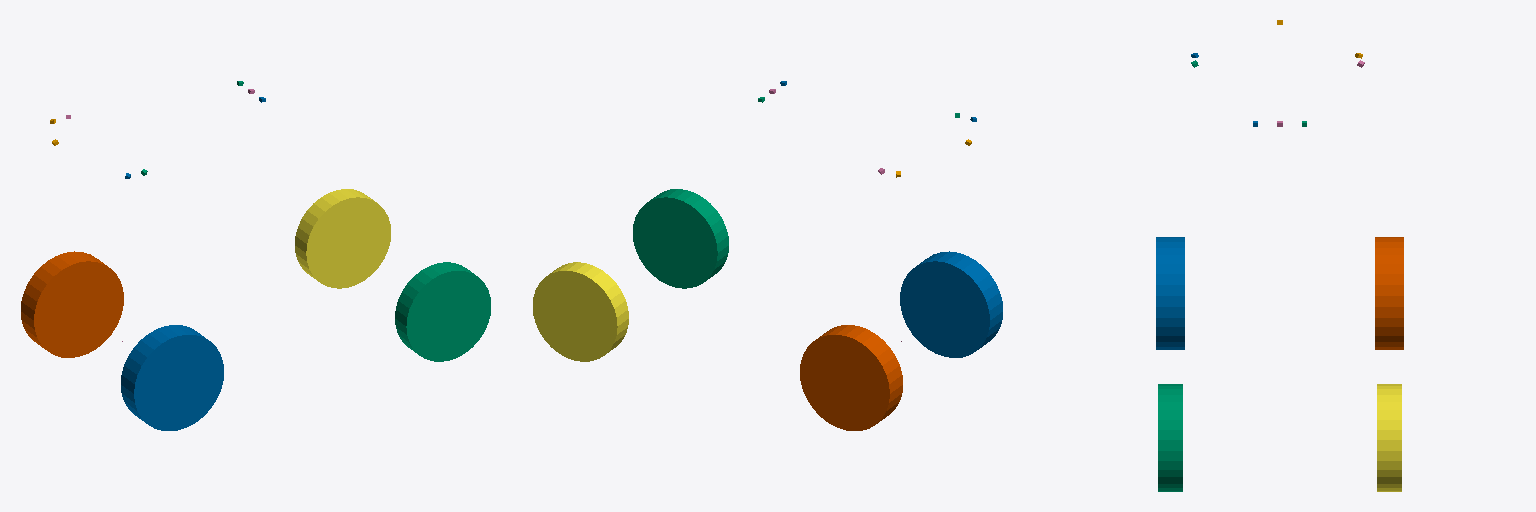
--- What the picture shows (computed from the rendered views, not written in the file) ---
The picture shows the robot from 3 angles, left to right: view 1: azimuth 30°, elevation 25°; view 2: azimuth 150°, elevation 25°; view 3: azimuth 270°, elevation 25°; orthographic projection.
Model sd_twizy with 26 links and 25 joints (2 revolute, 4 continuous, 19 fixed), rooted at base_link, posed every joint at zero.
Visible links, largest first — view 1: rear_left_wheel, rear_right_wheel, front_right_wheel, front_left_wheel; view 2: rear_right_wheel, rear_left_wheel, front_left_wheel, front_right_wheel; view 3: rear_left_wheel, rear_right_wheel, front_left_wheel, front_right_wheel.
Link boxes in pixels (box(x1,y1,x2,y2)): rear_left_wheel: box(121, 325, 223, 430); rear_right_wheel: box(21, 251, 123, 357); front_right_wheel: box(295, 189, 390, 288); front_left_wheel: box(395, 262, 490, 361); rear_right_wheel: box(800, 325, 902, 430); rear_left_wheel: box(900, 251, 1002, 357); front_left_wheel: box(633, 189, 728, 288); front_right_wheel: box(533, 262, 628, 361); rear_left_wheel: box(1156, 237, 1184, 349); rear_right_wheel: box(1375, 237, 1403, 349); front_left_wheel: box(1158, 384, 1182, 491); front_right_wheel: box(1377, 384, 1401, 491).
Size in the robot's own frame: 2.38 by 1.23 by 1.59 metres.
Geometry: only primitive shapes (box / cylinder / sphere) drawn; not drawn: 4 mesh visuals (reference in a form the renderer does not follow).

The robot description file, URDF, robot "sd_twizy":
<?xml version="1.0" ?>
<!-- =================================================================================== -->
<!-- |    This document was autogenerated by xacro from sd_twizy.urdf.xacro            | -->
<!-- |    EDITING THIS FILE BY HAND IS NOT RECOMMENDED                                 | -->
<!-- =================================================================================== -->
<!--

Copyright (c) 2020 StreetDrone Limited
Author:  Efimia Panagiotaki

All rights reserved

-->
<robot name="sd_twizy" xmlns:xacro="http://www.ros.org/wiki/xacro">
  <gazebo reference="chassis">
    <material>Gazebo/Green</material>
  </gazebo>
  <gazebo reference="front_left_wheel">
    <mu1 value="0.95"/>
    <mu2 value="0.95"/>
    <minDepth>0.005</minDepth>
    <kp>1e8</kp>
    <material>Gazebo/Black</material>
  </gazebo>
  <gazebo reference="front_right_wheel">
    <mu1 value="0.95"/>
    <mu2 value="0.95"/>
    <minDepth>0.005</minDepth>
    <kp>1e8</kp>
    <material>Gazebo/Black</material>
  </gazebo>
  <gazebo reference="rear_left_wheel">
    <mu1 value="0.95"/>
    <mu2 value="0.95"/>
    <minDepth>0.005</minDepth>
    <kp>1e8</kp>
    <material>Gazebo/Black</material>
  </gazebo>
  <gazebo reference="rear_right_wheel">
    <mu1 value="0.95"/>
    <mu2 value="0.95"/>
    <minDepth>0.005</minDepth>
    <kp>1e8</kp>
    <material>Gazebo/Black</material>
  </gazebo>
  <link name="front_left_axle">
    <inertial>
      <mass value="1"/>
      <origin xyz="0 0 0"/>
      <inertia ixx="0.004" ixy="0.0" ixz="0.0" iyy="0.004" iyz="0.0" izz="0.004"/>
    </inertial>
  </link>
  <link name="front_right_axle">
    <inertial>
      <mass value="1"/>
      <origin xyz="0 0 0"/>
      <inertia ixx="0.004" ixy="0.0" ixz="0.0" iyy="0.004" iyz="0.0" izz="0.004"/>
    </inertial>
  </link>
  <link name="front_left_wheel">
    <inertial>
      <mass value="9.14"/>
      <origin xyz="0 0 0"/>
      <inertia ixx="0.172365166667" ixy="0.0" ixz="0.0" iyy="0.172365166667" iyz="0.0" izz="0.32092825"/>
    </inertial>
    <collision name="front_left_wheel_collision">
      <geometry>
        <cylinder length="0.125" radius="0.265"/>
      </geometry>
    </collision>
    <visual>
      <geometry>
        <cylinder length="0.125" radius="0.265"/>
      </geometry>
      <material name="tire_mat"/>
    </visual>
  </link>
  <link name="front_right_wheel">
    <inertial>
      <mass value="9.14"/>
      <origin xyz="0 0 0"/>
      <inertia ixx="0.172365166667" ixy="0.0" ixz="0.0" iyy="0.172365166667" iyz="0.0" izz="0.32092825"/>
    </inertial>
    <collision name="front_right_wheel_collision">
      <geometry>
        <cylinder length="0.125" radius="0.265"/>
      </geometry>
    </collision>
    <visual>
      <geometry>
        <cylinder length="0.125" radius="0.265"/>
      </geometry>
      <material name="tire_mat"/>
    </visual>
  </link>
  <link name="rear_left_wheel">
    <inertial>
      <mass value="10.08"/>
      <origin xyz="0 0 0"/>
      <inertia ixx="0.21664272" ixy="0.0" ixz="0.0" iyy="0.21664272" iyz="0.0" izz="0.39796344"/>
    </inertial>
    <collision name="rear_left_wheel_collision">
      <geometry>
        <cylinder length="0.145" radius="0.281"/>
      </geometry>
    </collision>
    <visual>
      <geometry>
        <cylinder length="0.145" radius="0.281"/>
      </geometry>
      <material name="tire_mat"/>
    </visual>
  </link>
  <link name="rear_right_wheel">
    <inertial>
      <mass value="10.08"/>
      <origin xyz="0 0 0"/>
      <inertia ixx="0.21664272" ixy="0.0" ixz="0.0" iyy="0.21664272" iyz="0.0" izz="0.39796344"/>
    </inertial>
    <collision name="rear_right_wheel_collision">
      <geometry>
        <cylinder length="0.145" radius="0.281"/>
      </geometry>
    </collision>
    <visual>
      <geometry>
        <cylinder length="0.145" radius="0.281"/>
      </geometry>
      <material name="tire_mat"/>
    </visual>
  </link>
  <link name="base_link">
    <visual>
      <origin rpy="0 0 0" xyz="0 0 0"/>
      <geometry>
        <box size="0.001 0.001 0.001"/>
      </geometry>
    </visual>
  </link>
  <joint name="chassis_joint" type="fixed">
    <origin rpy="0 0 0" xyz="0.843 0 0"/>
    <parent link="base_link"/>
    <child link="chassis"/>
  </joint>
  <link name="chassis">
    <inertial>
      <mass value="435"/>
      <origin xyz="0 0 0"/>
      <inertia ixx="243.175" ixy="0" ixz="0" iyy="430.166" iyz="0" izz="430.166"/>
    </inertial>
    <visual>
      <origin rpy="0 0 1.57079632679" xyz="0 0 0"/>
      <geometry>
        <mesh filename="file:///[local-path]/catkin_ws/src/streetdrone_model/sd_description/meshes/SDTwizy.stl" scale="0.01 0.01 0.01"/>
      </geometry>
    </visual>
    <collision>
      <origin rpy="0 0 1.57079632679" xyz="0 0 0"/>
      <geometry>
        <mesh filename="file:///[local-path]/catkin_ws/src/streetdrone_model/sd_description/meshes/SDTwizy_collision.stl" scale="0.01 0.01 0.01"/>
      </geometry>
    </collision>
  </link>
  <joint name="rear_left_wheel_joint" type="continuous">
    <parent link="base_link"/>
    <child link="rear_left_wheel"/>
    <origin rpy="1.57079633 0 0" xyz="0 -0.54 0"/>
    <axis xyz="0 0 -1"/>
  </joint>
  <joint name="rear_right_wheel_joint" type="continuous">
    <parent link="base_link"/>
    <child link="rear_right_wheel"/>
    <origin rpy="1.57079633 0 0" xyz="0 0.54 0"/>
    <axis xyz="0 0 -1"/>
  </joint>
  <joint name="front_left_steer_joint" type="revolute">
    <parent link="base_link"/>
    <child link="front_left_axle"/>
    <origin rpy="1.57079633 0 3.14159265" xyz="1.686 -0.54 0"/>
    <axis xyz="0 1 0"/>
    <limit effort="500000" lower="-0.785398" upper="0.785398" velocity="250"/>
  </joint>
  <joint name="front_left_wheel_joint" type="continuous">
    <parent link="front_left_axle"/>
    <child link="front_left_wheel"/>
    <origin rpy="0 0 0" xyz="0 0 0"/>
    <axis xyz="0 0 -1"/>
  </joint>
  <joint name="front_right_steer_joint" type="revolute">
    <parent link="base_link"/>
    <child link="front_right_axle"/>
    <origin rpy="1.57079633 0 3.14159265" xyz="1.686 0.54 0"/>
    <axis xyz="0 1 0"/>
    <limit effort="500000" lower="-0.785398" upper="0.785398" velocity="250"/>
  </joint>
  <joint name="front_right_wheel_joint" type="continuous">
    <parent link="front_right_axle"/>
    <child link="front_right_wheel"/>
    <origin rpy="0 0 0" xyz="0 0 0"/>
    <axis xyz="0 0 -1"/>
  </joint>
  <joint name="velodyne_base_mount_joint" type="fixed">
    <origin rpy="0 -0.0261799387799 0" xyz="-0.681 0 1.445"/>
    <parent link="chassis"/>
    <child link="velodyne_base_link"/>
  </joint>
  <link name="velodyne_base_link">
    <inertial>
      <mass value="0.83"/>
      <origin xyz="0 0 0.03585"/>
      <inertia ixx="0.000908059425" ixy="0" ixz="0" iyy="0.000908059425" iyz="0" izz="0.0011049624"/>
    </inertial>
    <visual>
      <geometry>
        <mesh filename="file:///[local-path]/catkin_ws/src/streetdrone_model/sd_description/meshes/VLP16_base_1.dae"/>
      </geometry>
    </visual>
    <visual>
      <geometry>
        <mesh filename="file:///[local-path]/catkin_ws/src/streetdrone_model/sd_description/meshes/VLP16_base_2.dae"/>
      </geometry>
    </visual>
    <collision>
      <origin rpy="0 0 0" xyz="0 0 0.03585"/>
      <geometry>
        <cylinder length="0.0717" radius="0.0516"/>
      </geometry>
    </collision>
  </link>
  <joint name="velodyne_base_scan_joint" type="fixed">
    <origin rpy="0 0 0" xyz="0 0 0.0377"/>
    <parent link="velodyne_base_link"/>
    <child link="velodyne"/>
  </joint>
  <link name="velodyne">
    <inertial>
      <mass value="0.01"/>
      <origin xyz="0 0 0"/>
      <inertia ixx="1e-7" ixy="0" ixz="0" iyy="1e-7" iyz="0" izz="1e-7"/>
    </inertial>
    <visual>
      <origin xyz="0 0 -0.0377"/>
      <geometry>
        <mesh filename="file:///[local-path]/catkin_ws/src/streetdrone_model/sd_description/meshes/VLP16_scan.dae"/>
      </geometry>
    </visual>
  </link>
  <!-- Gazebo requires the velodyne_gazebo_plugins package -->
  <gazebo reference="velodyne">
    <sensor name="velodyne-VLP16" type="ray">
      <pose>0 0 0 0 0 0</pose>
      <visualize>false</visualize>
      <update_rate>10</update_rate>
      <ray>
        <scan>
          <horizontal>
            <samples>1875</samples>
            <resolution>1</resolution>
            <min_angle>-3.14159265359</min_angle>
            <max_angle>3.14159265359</max_angle>
          </horizontal>
          <vertical>
            <samples>16</samples>
            <resolution>1</resolution>
            <min_angle>-0.261799387799</min_angle>
            <max_angle> 0.261799387799</max_angle>
          </vertical>
        </scan>
        <range>
          <min>0.3</min>
          <max>131.0</max>
          <resolution>0.001</resolution>
        </range>
        <noise>
          <type>gaussian</type>
          <mean>0.0</mean>
          <stddev>0.0</stddev>
        </noise>
      </ray>
      <plugin filename="libgazebo_ros_velodyne_laser.so" name="gazebo_ros_laser_controller">
        <topicName>/points_raw</topicName>
        <frameName>velodyne</frameName>
        <min_range>0.9</min_range>
        <max_range>130.0</max_range>
        <gaussianNoise>0.008</gaussianNoise>
      </plugin>
    </sensor>
  </gazebo>
  <joint name="front_left_camera_joint" type="fixed">
    <axis xyz="0 1 0"/>
    <origin rpy="0 0.087 0" xyz="-0.04 0.12 1.3"/>
    <parent link="chassis"/>
    <child link="front_left_camera_link"/>
  </joint>
  <!-- Camera -->
  <link name="front_left_camera_link">
    <collision>
      <origin rpy="0 0 0" xyz="0 0 0"/>
      <geometry>
        <box size="0.026 0.026 0.0203"/>
      </geometry>
    </collision>
    <visual>
      <origin rpy="0 0 0" xyz="0 0 0"/>
      <geometry>
        <box size="0.026 0.026 0.0203"/>
      </geometry>
      <material name="red"/>
    </visual>
    <inertial>
      <mass value="1e-5"/>
      <origin rpy="0 0 0" xyz="0 0 0"/>
      <inertia ixx="1e-6" ixy="0" ixz="0" iyy="1e-6" iyz="0" izz="1e-6"/>
    </inertial>
  </link>
  <!-- generate an optical frame http://www.ros.org/reps/rep-0103.html#suffix-frames
         so that ros and opencv can operate on the camera frame correctly -->
  <joint name="front_left_camera_optical_joint" type="fixed">
    <!-- these values have to be these values otherwise the gazebo camera image
           won't be aligned properly with the frame it is supposedly originating from -->
    <origin rpy="-1.57079632679 0 -1.57079632679" xyz="0 0 0"/>
    <parent link="front_left_camera_link"/>
    <child link="front_left_camera_link_optical"/>
  </joint>
  <link name="front_left_camera_link_optical"/>
  <gazebo reference="front_left_camera_link">
    <mu1>0.2</mu1>
    <mu2>0.2</mu2>
    <material>Gazebo/Red</material>
    <sensor name="front_left_camera" type="camera">
      <update_rate>30.0</update_rate>
      <camera name="head">
        <horizontal_fov>2.09</horizontal_fov>
        <image>
          <width>1920</width>
          <height>1200</height>
          <format>R8G8B8</format>
        </image>
        <clip>
          <near>0.1</near>
          <far>30</far>
        </clip>
        <noise>
          <type>gaussian</type>
          <!-- Noise is sampled independently per pixel on each frame.
                 That pixel's noise value is added to each of its color
                 channels, which at that point lie in the range [0,1]. -->
          <mean>0.0</mean>
          <stddev>0.007</stddev>
        </noise>
      </camera>
      <plugin filename="libgazebo_ros_camera.so" name="front_left_camera_controller">
        <alwaysOn>true</alwaysOn>
        <updateRate>0.0</updateRate>
        <cameraName>sd_twizy/front_left_camera</cameraName>
        <imageTopicName>image_raw</imageTopicName>
        <cameraInfoTopicName>camera_info</cameraInfoTopicName>
        <frameName>front_left_camera_link_optical</frameName>
        <!-- setting hackBaseline to anything but 0.0 will cause a misalignment
               between the gazebo sensor image and the frame it is supposed to
               be attached to -->
        <hackBaseline>0.0</hackBaseline>
        <distortionK1>0.0</distortionK1>
        <distortionK2>0.0</distortionK2>
        <distortionK3>0.0</distortionK3>
        <distortionT1>0.0</distortionT1>
        <distortionT2>0.0</distortionT2>
        <CxPrime>0</CxPrime>
        <Cx>0.0</Cx>
        <Cy>0.0</Cy>
        <focalLength>0.0</focalLength>
      </plugin>
    </sensor>
  </gazebo>
  <joint name="front_right_camera_joint" type="fixed">
    <axis xyz="0 1 0"/>
    <origin rpy="0 0.087 0" xyz="-0.04 -0.12 1.3"/>
    <parent link="chassis"/>
    <child link="front_right_camera_link"/>
  </joint>
  <!-- Camera -->
  <link name="front_right_camera_link">
    <collision>
      <origin rpy="0 0 0" xyz="0 0 0"/>
      <geometry>
        <box size="0.026 0.026 0.0203"/>
      </geometry>
    </collision>
    <visual>
      <origin rpy="0 0 0" xyz="0 0 0"/>
      <geometry>
        <box size="0.026 0.026 0.0203"/>
      </geometry>
      <material name="red"/>
    </visual>
    <inertial>
      <mass value="1e-5"/>
      <origin rpy="0 0 0" xyz="0 0 0"/>
      <inertia ixx="1e-6" ixy="0" ixz="0" iyy="1e-6" iyz="0" izz="1e-6"/>
    </inertial>
  </link>
  <!-- generate an optical frame http://www.ros.org/reps/rep-0103.html#suffix-frames
         so that ros and opencv can operate on the camera frame correctly -->
  <joint name="front_right_camera_optical_joint" type="fixed">
    <!-- these values have to be these values otherwise the gazebo camera image
           won't be aligned properly with the frame it is supposedly originating from -->
    <origin rpy="-1.57079632679 0 -1.57079632679" xyz="0 0 0"/>
    <parent link="front_right_camera_link"/>
    <child link="front_right_camera_link_optical"/>
  </joint>
  <link name="front_right_camera_link_optical"/>
  <gazebo reference="front_right_camera_link">
    <mu1>0.2</mu1>
    <mu2>0.2</mu2>
    <material>Gazebo/Red</material>
    <sensor name="front_right_camera" type="camera">
      <update_rate>30.0</update_rate>
      <camera name="head">
        <horizontal_fov>2.09</horizontal_fov>
        <image>
          <width>1920</width>
          <height>1200</height>
          <format>R8G8B8</format>
        </image>
        <clip>
          <near>0.1</near>
          <far>30</far>
        </clip>
        <noise>
          <type>gaussian</type>
          <!-- Noise is sampled independently per pixel on each frame.
                 That pixel's noise value is added to each of its color
                 channels, which at that point lie in the range [0,1]. -->
          <mean>0.0</mean>
          <stddev>0.007</stddev>
        </noise>
      </camera>
      <plugin filename="libgazebo_ros_camera.so" name="front_right_camera_controller">
        <alwaysOn>true</alwaysOn>
        <updateRate>0.0</updateRate>
        <cameraName>sd_twizy/front_right_camera</cameraName>
        <imageTopicName>image_raw</imageTopicName>
        <cameraInfoTopicName>camera_info</cameraInfoTopicName>
        <frameName>front_right_camera_link_optical</frameName>
        <!-- setting hackBaseline to anything but 0.0 will cause a misalignment
               between the gazebo sensor image and the frame it is supposed to
               be attached to -->
        <hackBaseline>0.0</hackBaseline>
        <distortionK1>0.0</distortionK1>
        <distortionK2>0.0</distortionK2>
        <distortionK3>0.0</distortionK3>
        <distortionT1>0.0</distortionT1>
        <distortionT2>0.0</distortionT2>
        <CxPrime>0</CxPrime>
        <Cx>0.0</Cx>
        <Cy>0.0</Cy>
        <focalLength>0.0</focalLength>
      </plugin>
    </sensor>
  </gazebo>
  <joint name="front_center_camera_joint" type="fixed">
    <axis xyz="0 1 0"/>
    <origin rpy="0 0.087 0" xyz="-0.04 0 1.3"/>
    <parent link="chassis"/>
    <child link="front_center_camera_link"/>
  </joint>
  <!-- Camera -->
  <link name="front_center_camera_link">
    <collision>
      <origin rpy="0 0 0" xyz="0 0 0"/>
      <geometry>
        <box size="0.026 0.026 0.0203"/>
      </geometry>
    </collision>
    <visual>
      <origin rpy="0 0 0" xyz="0 0 0"/>
      <geometry>
        <box size="0.026 0.026 0.0203"/>
      </geometry>
      <material name="red"/>
    </visual>
    <inertial>
      <mass value="1e-5"/>
      <origin rpy="0 0 0" xyz="0 0 0"/>
      <inertia ixx="1e-6" ixy="0" ixz="0" iyy="1e-6" iyz="0" izz="1e-6"/>
    </inertial>
  </link>
  <!-- generate an optical frame http://www.ros.org/reps/rep-0103.html#suffix-frames
         so that ros and opencv can operate on the camera frame correctly -->
  <joint name="front_center_camera_optical_joint" type="fixed">
    <!-- these values have to be these values otherwise the gazebo camera image
           won't be aligned properly with the frame it is supposedly originating from -->
    <origin rpy="-1.57079632679 0 -1.57079632679" xyz="0 0 0"/>
    <parent link="front_center_camera_link"/>
    <child link="front_center_camera_link_optical"/>
  </joint>
  <link name="front_center_camera_link_optical"/>
  <gazebo reference="front_center_camera_link">
    <mu1>0.2</mu1>
    <mu2>0.2</mu2>
    <material>Gazebo/Red</material>
    <sensor name="front_center_camera" type="camera">
      <update_rate>30.0</update_rate>
      <camera name="head">
        <horizontal_fov>2.09</horizontal_fov>
        <image>
          <width>1920</width>
          <height>1200</height>
          <format>R8G8B8</format>
        </image>
        <clip>
          <near>0.1</near>
          <far>30</far>
        </clip>
        <noise>
          <type>gaussian</type>
          <!-- Noise is sampled independently per pixel on each frame.
                 That pixel's noise value is added to each of its color
                 channels, which at that point lie in the range [0,1]. -->
          <mean>0.0</mean>
          <stddev>0.007</stddev>
        </noise>
      </camera>
      <plugin filename="libgazebo_ros_camera.so" name="front_center_camera_controller">
        <alwaysOn>true</alwaysOn>
        <updateRate>0.0</updateRate>
        <cameraName>sd_twizy/front_center_camera</cameraName>
        <imageTopicName>image_raw</imageTopicName>
        <cameraInfoTopicName>camera_info</cameraInfoTopicName>
        <frameName>front_center_camera_link_optical</frameName>
        <!-- setting hackBaseline to anything but 0.0 will cause a misalignment
               between the gazebo sensor image and the frame it is supposed to
               be attached to -->
        <hackBaseline>0.0</hackBaseline>
        <distortionK1>0.0</distortionK1>
        <distortionK2>0.0</distortionK2>
        <distortionK3>0.0</distortionK3>
        <distortionT1>0.0</distortionT1>
        <distortionT2>0.0</distortionT2>
        <CxPrime>0</CxPrime>
        <Cx>0.0</Cx>
        <Cy>0.0</Cy>
        <focalLength>0.0</focalLength>
      </plugin>
    </sensor>
  </gazebo>
  <joint name="rear_center_camera_joint" type="fixed">
    <axis xyz="0 1 0"/>
    <origin rpy="0 0.2618 3.14" xyz="-1.26 0 1.28"/>
    <parent link="chassis"/>
    <child link="rear_center_camera_link"/>
  </joint>
  <!-- Camera -->
  <link name="rear_center_camera_link">
    <collision>
      <origin rpy="0 0 0" xyz="0 0 0"/>
      <geometry>
        <box size="0.026 0.026 0.0203"/>
      </geometry>
    </collision>
    <visual>
      <origin rpy="0 0 0" xyz="0 0 0"/>
      <geometry>
        <box size="0.026 0.026 0.0203"/>
      </geometry>
      <material name="red"/>
    </visual>
    <inertial>
      <mass value="1e-5"/>
      <origin rpy="0 0 0" xyz="0 0 0"/>
      <inertia ixx="1e-6" ixy="0" ixz="0" iyy="1e-6" iyz="0" izz="1e-6"/>
    </inertial>
  </link>
  <!-- generate an optical frame http://www.ros.org/reps/rep-0103.html#suffix-frames
         so that ros and opencv can operate on the camera frame correctly -->
  <joint name="rear_center_camera_optical_joint" type="fixed">
    <!-- these values have to be these values otherwise the gazebo camera image
           won't be aligned properly with the frame it is supposedly originating from -->
    <origin rpy="-1.57079632679 0 -1.57079632679" xyz="0 0 0"/>
    <parent link="rear_center_camera_link"/>
    <child link="rear_center_camera_link_optical"/>
  </joint>
  <link name="rear_center_camera_link_optical"/>
  <gazebo reference="rear_center_camera_link">
    <mu1>0.2</mu1>
    <mu2>0.2</mu2>
    <material>Gazebo/Red</material>
    <sensor name="rear_center_camera" type="camera">
      <update_rate>30.0</update_rate>
      <camera name="head">
        <horizontal_fov>2.09</horizontal_fov>
        <image>
          <width>1920</width>
          <height>1200</height>
          <format>R8G8B8</format>
        </image>
        <clip>
          <near>0.1</near>
          <far>30</far>
        </clip>
        <noise>
          <type>gaussian</type>
          <!-- Noise is sampled independently per pixel on each frame.
                 That pixel's noise value is added to each of its color
                 channels, which at that point lie in the range [0,1]. -->
          <mean>0.0</mean>
          <stddev>0.007</stddev>
        </noise>
      </camera>
      <plugin filename="libgazebo_ros_camera.so" name="rear_center_camera_controller">
        <alwaysOn>true</alwaysOn>
        <updateRate>0.0</updateRate>
        <cameraName>sd_twizy/rear_center_camera</cameraName>
        <imageTopicName>image_raw</imageTopicName>
        <cameraInfoTopicName>camera_info</cameraInfoTopicName>
        <frameName>rear_center_camera_link_optical</frameName>
        <!-- setting hackBaseline to anything but 0.0 will cause a misalignment
               between the gazebo sensor image and the frame it is supposed to
               be attached to -->
        <hackBaseline>0.0</hackBaseline>
        <distortionK1>0.0</distortionK1>
        <distortionK2>0.0</distortionK2>
        <distortionK3>0.0</distortionK3>
        <distortionT1>0.0</distortionT1>
        <distortionT2>0.0</distortionT2>
        <CxPrime>0</CxPrime>
        <Cx>0.0</Cx>
        <Cy>0.0</Cy>
        <focalLength>0.0</focalLength>
      </plugin>
    </sensor>
  </gazebo>
  <joint name="right_forward_camera_joint" type="fixed">
    <axis xyz="0 1 0"/>
    <origin rpy="0 0.244 -1.12" xyz="-0.95 -0.42 1.2"/>
    <parent link="chassis"/>
    <child link="right_forward_camera_link"/>
  </joint>
  <!-- Camera -->
  <link name="right_forward_camera_link">
    <collision>
      <origin rpy="0 0 0" xyz="0 0 0"/>
      <geometry>
        <box size="0.026 0.026 0.0203"/>
      </geometry>
    </collision>
    <visual>
      <origin rpy="0 0 0" xyz="0 0 0"/>
      <geometry>
        <box size="0.026 0.026 0.0203"/>
      </geometry>
      <material name="red"/>
    </visual>
    <inertial>
      <mass value="1e-5"/>
      <origin rpy="0 0 0" xyz="0 0 0"/>
      <inertia ixx="1e-6" ixy="0" ixz="0" iyy="1e-6" iyz="0" izz="1e-6"/>
    </inertial>
  </link>
  <!-- generate an optical frame http://www.ros.org/reps/rep-0103.html#suffix-frames
         so that ros and opencv can operate on the camera frame correctly -->
  <joint name="right_forward_camera_optical_joint" type="fixed">
    <!-- these values have to be these values otherwise the gazebo camera image
           won't be aligned properly with the frame it is supposedly originating from -->
    <origin rpy="-1.57079632679 0 -1.57079632679" xyz="0 0 0"/>
    <parent link="right_forward_camera_link"/>
    <child link="right_forward_camera_link_optical"/>
  </joint>
  <link name="right_forward_camera_link_optical"/>
  <gazebo reference="right_forward_camera_link">
    <mu1>0.2</mu1>
    <mu2>0.2</mu2>
    <material>Gazebo/Red</material>
    <sensor name="right_forward_camera" type="camera">
      <update_rate>30.0</update_rate>
      <camera name="head">
        <horizontal_fov>2.09</horizontal_fov>
        <image>
          <width>1920</width>
          <height>1200</height>
          <format>R8G8B8</format>
        </image>
        <clip>
          <near>0.1</near>
          <far>30</far>
        </clip>
        <noise>
          <type>gaussian</type>
          <!-- Noise is sampled independently per pixel on each frame.
                 That pixel's noise value is added to each of its color
                 channels, which at that point lie in the range [0,1]. -->
          <mean>0.0</mean>
          <stddev>0.007</stddev>
        </noise>
      </camera>
      <plugin filename="libgazebo_ros_camera.so" name="right_forward_camera_controller">
        <alwaysOn>true</alwaysOn>
        <updateRate>0.0</updateRate>
        <cameraName>sd_twizy/right_forward_camera</cameraName>
        <imageTopicName>image_raw</imageTopicName>
        <cameraInfoTopicName>camera_info</cameraInfoTopicName>
        <frameName>right_forward_camera_link_optical</frameName>
        <!-- setting hackBaseline to anything but 0.0 will cause a misalignment
               between the gazebo sensor image and the frame it is supposed to
               be attached to -->
        <hackBaseline>0.0</hackBaseline>
        <distortionK1>0.0</distortionK1>
        <distortionK2>0.0</distortionK2>
        <distortionK3>0.0</distortionK3>
        <distortionT1>0.0</distortionT1>
        <distortionT2>0.0</distortionT2>
        <CxPrime>0</CxPrime>
        <Cx>0.0</Cx>
        <Cy>0.0</Cy>
        <focalLength>0.0</focalLength>
      </plugin>
    </sensor>
  </gazebo>
  <joint name="right_rearward_camera_joint" type="fixed">
    <axis xyz="0 1 0"/>
    <origin rpy="0 0.244 -2.18" xyz="-1.05 -0.42 1.2"/>
    <parent link="chassis"/>
    <child link="right_rearward_camera_link"/>
  </joint>
  <!-- Camera -->
  <link name="right_rearward_camera_link">
    <collision>
      <origin rpy="0 0 0" xyz="0 0 0"/>
      <geometry>
        <box size="0.026 0.026 0.0203"/>
      </geometry>
    </collision>
    <visual>
      <origin rpy="0 0 0" xyz="0 0 0"/>
      <geometry>
        <box size="0.026 0.026 0.0203"/>
      </geometry>
      <material name="red"/>
    </visual>
    <inertial>
      <mass value="1e-5"/>
      <origin rpy="0 0 0" xyz="0 0 0"/>
      <inertia ixx="1e-6" ixy="0" ixz="0" iyy="1e-6" iyz="0" izz="1e-6"/>
    </inertial>
  </link>
  <!-- generate an optical frame http://www.ros.org/reps/rep-0103.html#suffix-frames
         so that ros and opencv can operate on the camera frame correctly -->
  <joint name="right_rearward_camera_optical_joint" type="fixed">
    <!-- these values have to be these values otherwise the gazebo camera image
           won't be aligned properly with the frame it is supposedly originating from -->
    <origin rpy="-1.57079632679 0 -1.57079632679" xyz="0 0 0"/>
    <parent link="right_rearward_camera_link"/>
    <child link="right_rearward_camera_link_optical"/>
  </joint>
  <link name="right_rearward_camera_link_optical"/>
  <gazebo reference="right_rearward_camera_link">
    <mu1>0.2</mu1>
    <mu2>0.2</mu2>
    <material>Gazebo/Red</material>
    <sensor name="right_rearward_camera" type="camera">
      <update_rate>30.0</update_rate>
      <camera name="head">
        <horizontal_fov>2.09</horizontal_fov>
        <image>
          <width>1920</width>
          <height>1200</height>
          <format>R8G8B8</format>
        </image>
        <clip>
          <near>0.1</near>
          <far>30</far>
        </clip>
        <noise>
          <type>gaussian</type>
          <!-- Noise is sampled independently per pixel on each frame.
                 That pixel's noise value is added to each of its color
                 channels, which at that point lie in the range [0,1]. -->
          <mean>0.0</mean>
          <stddev>0.007</stddev>
        </noise>
      </camera>
      <plugin filename="libgazebo_ros_camera.so" name="right_rearward_camera_controller">
        <alwaysOn>true</alwaysOn>
        <updateRate>0.0</updateRate>
        <cameraName>sd_twizy/right_rearward_camera</cameraName>
        <imageTopicName>image_raw</imageTopicName>
        <cameraInfoTopicName>camera_info</cameraInfoTopicName>
        <frameName>right_rearward_camera_link_optical</frameName>
        <!-- setting hackBaseline to anything but 0.0 will cause a misalignment
               between the gazebo sensor image and the frame it is supposed to
               be attached to -->
        <hackBaseline>0.0</hackBaseline>
        <distortionK1>0.0</distortionK1>
        <distortionK2>0.0</distortionK2>
        <distortionK3>0.0</distortionK3>
        <distortionT1>0.0</distortionT1>
        <distortionT2>0.0</distortionT2>
        <CxPrime>0</CxPrime>
        <Cx>0.0</Cx>
        <Cy>0.0</Cy>
        <focalLength>0.0</focalLength>
      </plugin>
    </sensor>
  </gazebo>
  <joint name="left_forward_camera_joint" type="fixed">
    <axis xyz="0 1 0"/>
    <origin rpy="0 0.2967 1.12" xyz="-0.95 0.4 1.2"/>
    <parent link="chassis"/>
    <child link="left_forward_camera_link"/>
  </joint>
  <!-- Camera -->
  <link name="left_forward_camera_link">
    <collision>
      <origin rpy="0 0 0" xyz="0 0 0"/>
      <geometry>
        <box size="0.026 0.026 0.0203"/>
      </geometry>
    </collision>
    <visual>
      <origin rpy="0 0 0" xyz="0 0 0"/>
      <geometry>
        <box size="0.026 0.026 0.0203"/>
      </geometry>
      <material name="red"/>
    </visual>
    <inertial>
      <mass value="1e-5"/>
      <origin rpy="0 0 0" xyz="0 0 0"/>
      <inertia ixx="1e-6" ixy="0" ixz="0" iyy="1e-6" iyz="0" izz="1e-6"/>
    </inertial>
  </link>
  <!-- generate an optical frame http://www.ros.org/reps/rep-0103.html#suffix-frames
         so that ros and opencv can operate on the camera frame correctly -->
  <joint name="left_forward_camera_optical_joint" type="fixed">
    <!-- these values have to be these values otherwise the gazebo camera image
           won't be aligned properly with the frame it is supposedly originating from -->
    <origin rpy="-1.57079632679 0 -1.57079632679" xyz="0 0 0"/>
    <parent link="left_forward_camera_link"/>
    <child link="left_forward_camera_link_optical"/>
  </joint>
  <link name="left_forward_camera_link_optical"/>
  <gazebo reference="left_forward_camera_link">
    <mu1>0.2</mu1>
    <mu2>0.2</mu2>
    <material>Gazebo/Red</material>
    <sensor name="left_forward_camera" type="camera">
      <update_rate>30.0</update_rate>
      <camera name="head">
        <horizontal_fov>2.09</horizontal_fov>
        <image>
          <width>1920</width>
          <height>1200</height>
          <format>R8G8B8</format>
        </image>
        <clip>
          <near>0.1</near>
          <far>30</far>
        </clip>
        <noise>
          <type>gaussian</type>
          <!-- Noise is sampled independently per pixel on each frame.
                 That pixel's noise value is added to each of its color
                 channels, which at that point lie in the range [0,1]. -->
          <mean>0.0</mean>
          <stddev>0.007</stddev>
        </noise>
      </camera>
      <plugin filename="libgazebo_ros_camera.so" name="left_forward_camera_controller">
        <alwaysOn>true</alwaysOn>
        <updateRate>0.0</updateRate>
        <cameraName>sd_twizy/left_forward_camera</cameraName>
        <imageTopicName>image_raw</imageTopicName>
        <cameraInfoTopicName>camera_info</cameraInfoTopicName>
        <frameName>left_forward_camera_link_optical</frameName>
        <!-- setting hackBaseline to anything but 0.0 will cause a misalignment
               between the gazebo sensor image and the frame it is supposed to
               be attached to -->
        <hackBaseline>0.0</hackBaseline>
        <distortionK1>0.0</distortionK1>
        <distortionK2>0.0</distortionK2>
        <distortionK3>0.0</distortionK3>
        <distortionT1>0.0</distortionT1>
        <distortionT2>0.0</distortionT2>
        <CxPrime>0</CxPrime>
        <Cx>0.0</Cx>
        <Cy>0.0</Cy>
        <focalLength>0.0</focalLength>
      </plugin>
    </sensor>
  </gazebo>
  <joint name="left_rearward_camera_joint" type="fixed">
    <axis xyz="0 1 0"/>
    <origin rpy="0 0.2967 2.18" xyz="-1.05 0.39 1.2"/>
    <parent link="chassis"/>
    <child link="left_rearward_camera_link"/>
  </joint>
  <!-- Camera -->
  <link name="left_rearward_camera_link">
    <collision>
      <origin rpy="0 0 0" xyz="0 0 0"/>
      <geometry>
        <box size="0.026 0.026 0.0203"/>
      </geometry>
    </collision>
    <visual>
      <origin rpy="0 0 0" xyz="0 0 0"/>
      <geometry>
        <box size="0.026 0.026 0.0203"/>
      </geometry>
      <material name="red"/>
    </visual>
    <inertial>
      <mass value="1e-5"/>
      <origin rpy="0 0 0" xyz="0 0 0"/>
      <inertia ixx="1e-6" ixy="0" ixz="0" iyy="1e-6" iyz="0" izz="1e-6"/>
    </inertial>
  </link>
  <!-- generate an optical frame http://www.ros.org/reps/rep-0103.html#suffix-frames
         so that ros and opencv can operate on the camera frame correctly -->
  <joint name="left_rearward_camera_optical_joint" type="fixed">
    <!-- these values have to be these values otherwise the gazebo camera image
           won't be aligned properly with the frame it is supposedly originating from -->
    <origin rpy="-1.57079632679 0 -1.57079632679" xyz="0 0 0"/>
    <parent link="left_rearward_camera_link"/>
    <child link="left_rearward_camera_link_optical"/>
  </joint>
  <link name="left_rearward_camera_link_optical"/>
  <gazebo reference="left_rearward_camera_link">
    <mu1>0.2</mu1>
    <mu2>0.2</mu2>
    <material>Gazebo/Red</material>
    <sensor name="left_rearward_camera" type="camera">
      <update_rate>30.0</update_rate>
      <camera name="head">
        <horizontal_fov>2.09</horizontal_fov>
        <image>
          <width>1920</width>
          <height>1200</height>
          <format>R8G8B8</format>
        </image>
        <clip>
          <near>0.1</near>
          <far>30</far>
        </clip>
        <noise>
          <type>gaussian</type>
          <!-- Noise is sampled independently per pixel on each frame.
                 That pixel's noise value is added to each of its color
                 channels, which at that point lie in the range [0,1]. -->
          <mean>0.0</mean>
          <stddev>0.007</stddev>
        </noise>
      </camera>
      <plugin filename="libgazebo_ros_camera.so" name="left_rearward_camera_controller">
        <alwaysOn>true</alwaysOn>
        <updateRate>0.0</updateRate>
        <cameraName>sd_twizy/left_rearward_camera</cameraName>
        <imageTopicName>image_raw</imageTopicName>
        <cameraInfoTopicName>camera_info</cameraInfoTopicName>
        <frameName>left_rearward_camera_link_optical</frameName>
        <!-- setting hackBaseline to anything but 0.0 will cause a misalignment
               between the gazebo sensor image and the frame it is supposed to
               be attached to -->
        <hackBaseline>0.0</hackBaseline>
        <distortionK1>0.0</distortionK1>
        <distortionK2>0.0</distortionK2>
        <distortionK3>0.0</distortionK3>
        <distortionT1>0.0</distortionT1>
        <distortionT2>0.0</distortionT2>
        <CxPrime>0</CxPrime>
        <Cx>0.0</Cx>
        <Cy>0.0</Cy>
        <focalLength>0.0</focalLength>
      </plugin>
    </sensor>
  </gazebo>
  <gazebo>
    <plugin filename="libSdControlPlugin.so" name="sd_control">
      <chassis>base_link</chassis>
      <front_left_wheel>front_left_wheel_joint</front_left_wheel>
      <front_right_wheel>front_right_wheel_joint</front_right_wheel>
      <front_left_wheel_steering>front_left_steer_joint</front_left_wheel_steering>
      <front_right_wheel_steering>front_right_steer_joint</front_right_wheel_steering>
      <back_left_wheel>rear_left_wheel_joint</back_left_wheel>
      <back_right_wheel>rear_right_wheel_joint</back_right_wheel>
      <fl_wheel_steering_p_gain>1e4</fl_wheel_steering_p_gain>
      <fr_wheel_steering_p_gain>1e4</fr_wheel_steering_p_gain>
      <fl_wheel_steering_i_gain>0</fl_wheel_steering_i_gain>
      <fr_wheel_steering_i_gain>0</fr_wheel_steering_i_gain>
      <fl_wheel_steering_d_gain>3e2</fl_wheel_steering_d_gain>
      <fr_wheel_steering_d_gain>3e2</fr_wheel_steering_d_gain>
      <max_speed>22</max_speed>
      <max_torque>250</max_torque>
      <front_brake_torque>260</front_brake_torque>
      <back_brake_torque>260</back_brake_torque>
      <chassis_aero_force_gain>0.63045</chassis_aero_force_gain>
    </plugin>
  </gazebo>
  <gazebo>
    <plugin filename="libgazebo_ros_p3d.so" name="p3d">
      <bodyName>base_link</bodyName>
      <topicName>base_pose_ground_truth</topicName>
      <frameName>map</frameName>
      <updateRate>100.0</updateRate>
    </plugin>
  </gazebo>
  <gazebo>
    <plugin filename="libgazebo_ros_joint_state_publisher.so" name="joint_state_publisher">
      <robotNamespace>/sd_twizy</robotNamespace>
      <jointName>front_left_wheel_joint, front_right_wheel_joint, front_left_steer_joint, front_right_steer_joint, rear_left_wheel_joint, rear_right_wheel_joint</jointName>
      <updateRate>100.0</updateRate>
      <alwaysOn>true</alwaysOn>
    </plugin>
  </gazebo>
</robot>
